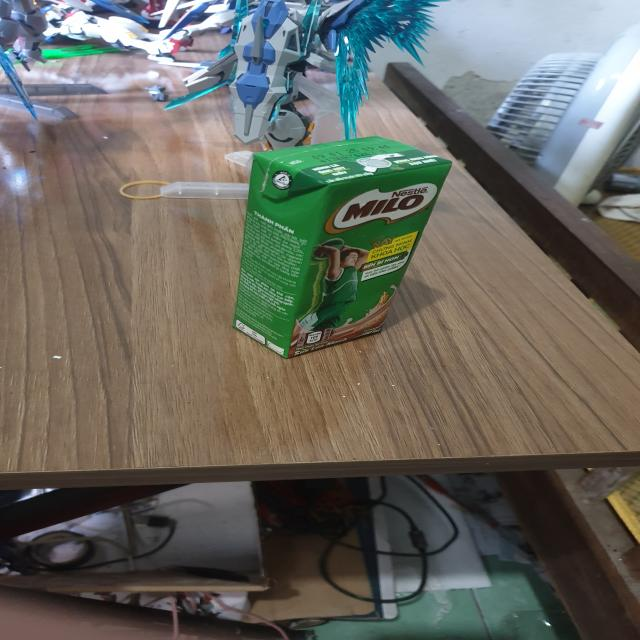Milo: (227, 136, 461, 360)
